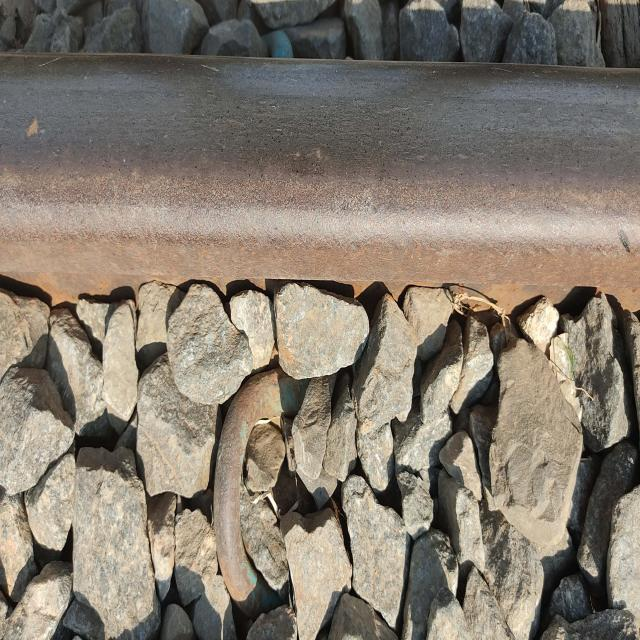Good Fasteners: (213, 368, 309, 618)
